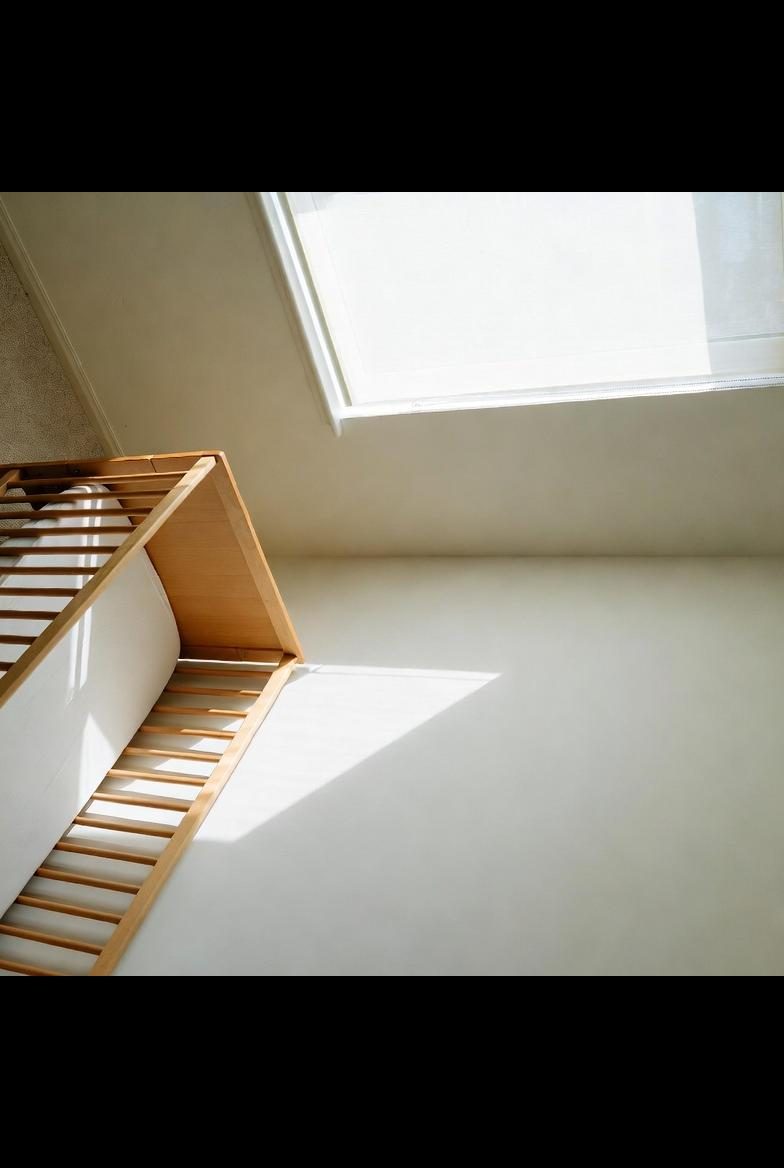crib: (0, 452, 300, 976)
